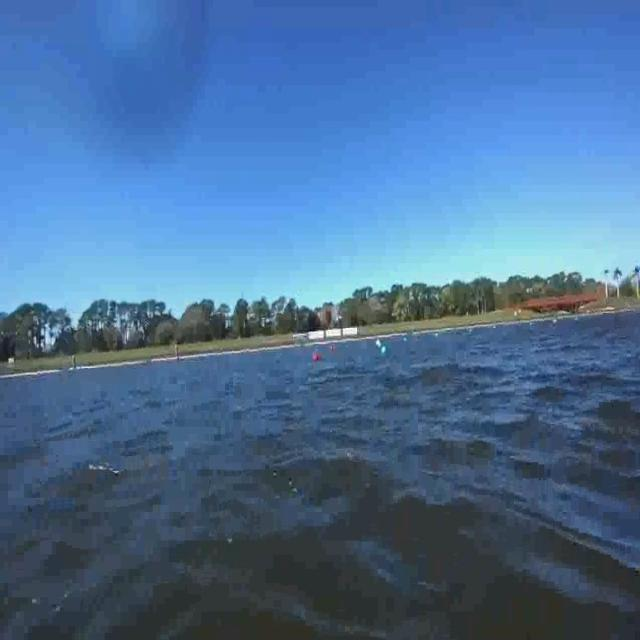red-buoy: (311, 352, 319, 362)
